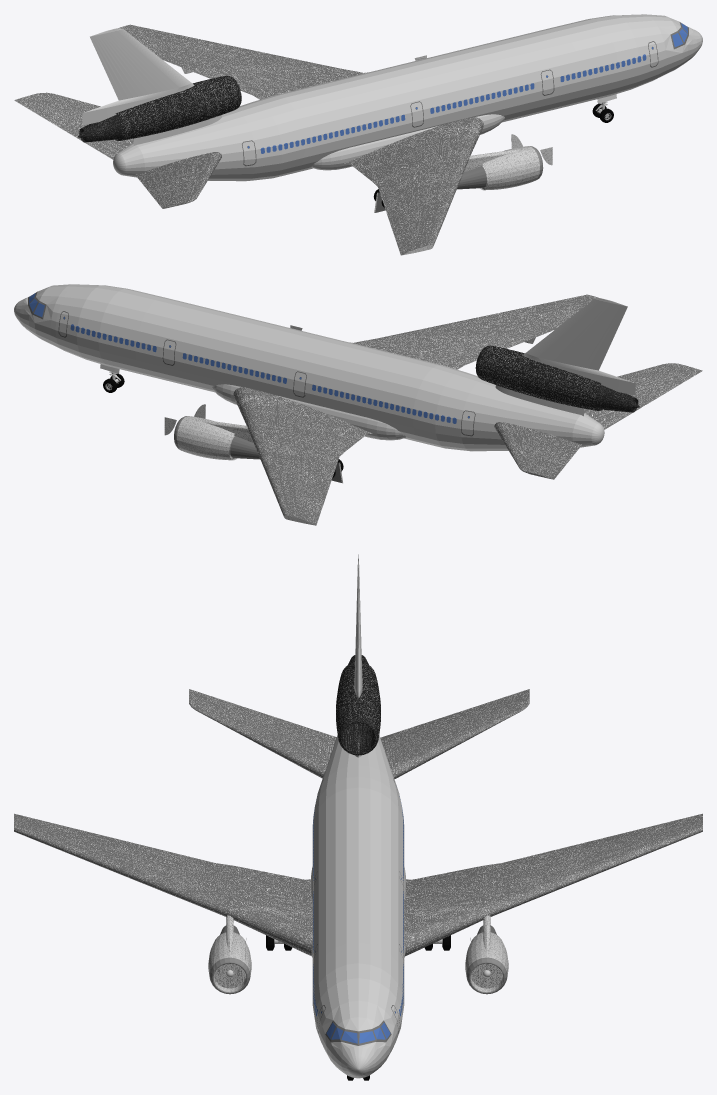
3 renders of one model, top to bottom at view 1: azimuth 30°, elevation 25°; view 2: azimuth 150°, elevation 25°; view 3: azimuth 270°, elevation 25°, orthographic. The views are drawn at different scales.
Visible parts, largest first — view 1: mesh164.002_mesh164-geometry, mesh159.002_mesh159-geometry, mesh105.003_mesh105-geometry, mesh32.003_mesh32-geometry, mesh158.002_mesh158-geometry, mesh155.003_mesh155-geometry, mesh157.002_mesh157-geometry, mesh104.003_mesh104-geometry; view 2: mesh164.002_mesh164-geometry, mesh159.002_mesh159-geometry, mesh32.003_mesh32-geometry, mesh105.003_mesh105-geometry, mesh157.002_mesh157-geometry, mesh84.003_mesh84-geometry, mesh158.002_mesh158-geometry, mesh31.003_mesh31-geometry; view 3: mesh164.002_mesh164-geometry, mesh105.003_mesh105-geometry, mesh32.003_mesh32-geometry, mesh157.002_mesh157-geometry, mesh158.002_mesh158-geometry, mesh159.002_mesh159-geometry, mesh155.003_mesh155-geometry, mesh84.003_mesh84-geometry.
Boxes of the visible parts, bbox=[...] form: mesh164.002_mesh164-geometry: bbox=[113, 14, 702, 181]; mesh159.002_mesh159-geometry: bbox=[78, 28, 241, 145]; mesh105.003_mesh105-geometry: bbox=[344, 117, 483, 255]; mesh32.003_mesh32-geometry: bbox=[118, 24, 364, 99]; mesh158.002_mesh158-geometry: bbox=[135, 152, 221, 208]; mesh155.003_mesh155-geometry: bbox=[457, 146, 543, 190]; mesh157.002_mesh157-geometry: bbox=[14, 92, 133, 159]; mesh104.003_mesh104-geometry: bbox=[463, 148, 521, 172]; mesh164.002_mesh164-geometry: bbox=[14, 284, 604, 451]; mesh159.002_mesh159-geometry: bbox=[475, 298, 639, 416]; mesh32.003_mesh32-geometry: bbox=[233, 387, 372, 525]; mesh105.003_mesh105-geometry: bbox=[353, 294, 598, 369]; mesh157.002_mesh157-geometry: bbox=[494, 422, 581, 479]; mesh84.003_mesh84-geometry: bbox=[174, 416, 260, 460]; mesh158.002_mesh158-geometry: bbox=[584, 363, 702, 429]; mesh31.003_mesh31-geometry: bbox=[195, 418, 253, 442]; mesh164.002_mesh164-geometry: bbox=[311, 735, 405, 1078]; mesh105.003_mesh105-geometry: bbox=[14, 813, 312, 956]; mesh32.003_mesh32-geometry: bbox=[404, 813, 702, 956]; mesh157.002_mesh157-geometry: bbox=[380, 689, 529, 778]; mesh158.002_mesh158-geometry: bbox=[189, 689, 336, 778]; mesh159.002_mesh159-geometry: bbox=[336, 554, 380, 757]; mesh155.003_mesh155-geometry: bbox=[208, 925, 251, 994]; mesh84.003_mesh84-geometry: bbox=[465, 925, 508, 994].
Bounding box in the file's own units: 0.7452 × 0.2419 × 0.6214.
